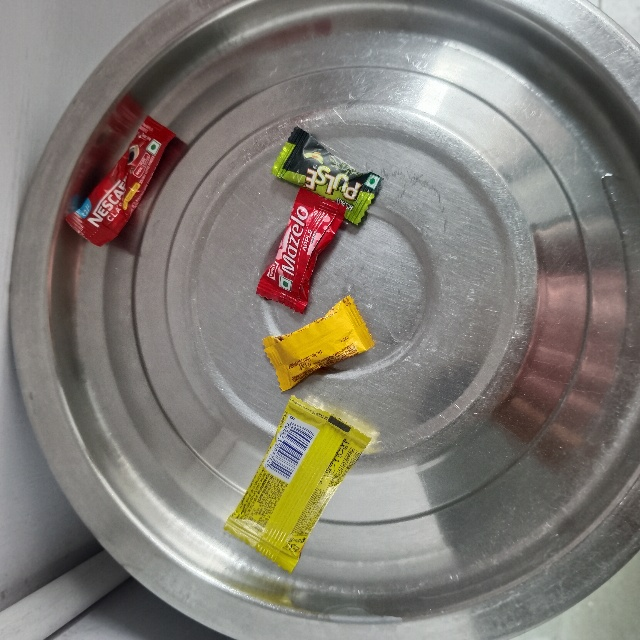Alpenlibe Creamfills: (254, 345, 366, 405)
Mazelo: (247, 290, 368, 350)
Nescafe Coffee: (68, 219, 204, 279)
Orbit: (298, 393, 387, 550)
Pulse: (289, 123, 405, 179)
